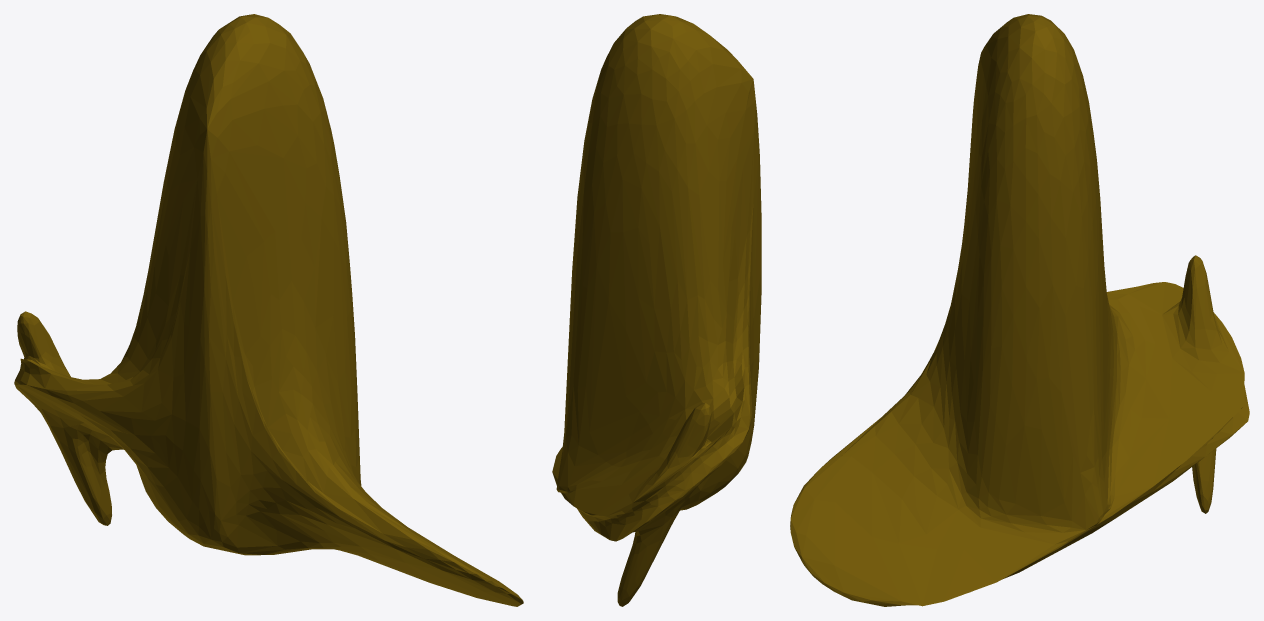
3 views of the same model, side by side, from view 1: azimuth 30°, elevation 25°; view 2: azimuth 150°, elevation 25°; view 3: azimuth 270°, elevation 25° (orthographic). The views are drawn at different scales.
Parts seen in each view (by area): view 1: 417_Cube.1694; view 2: 417_Cube.1694; view 3: 417_Cube.1694.
Part boxes in pixels (<box>): 417_Cube.1694: <box>14,14,523,606</box>; 417_Cube.1694: <box>552,14,761,606</box>; 417_Cube.1694: <box>790,14,1249,606</box>.
Size of the model in its own units: 7.46 by 12.35 by 9.93.
